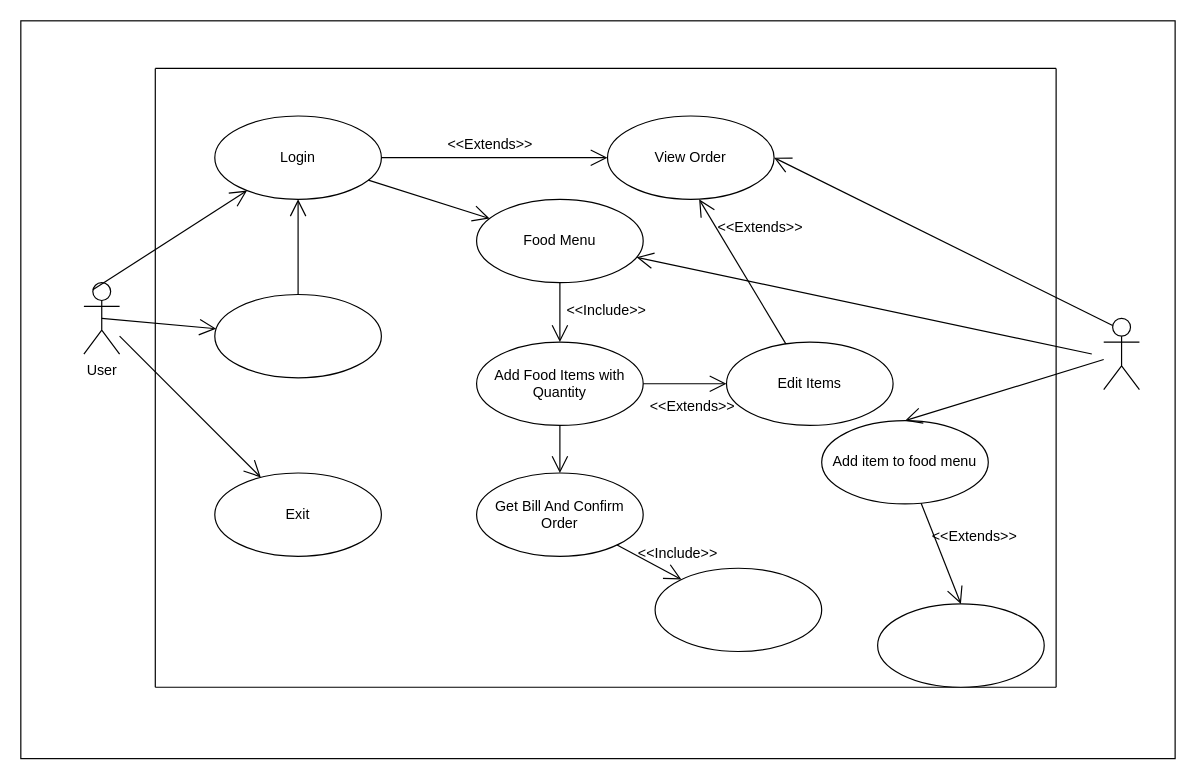
Image size: 1196x779. Some labels were removed from this diagram. The centre of each missing label's shape, as x and y in pixels:
Admin: the point at 1121,353
Edit Menu: the point at 960,645
New User: the point at 297,335
Payment: the point at 738,609
